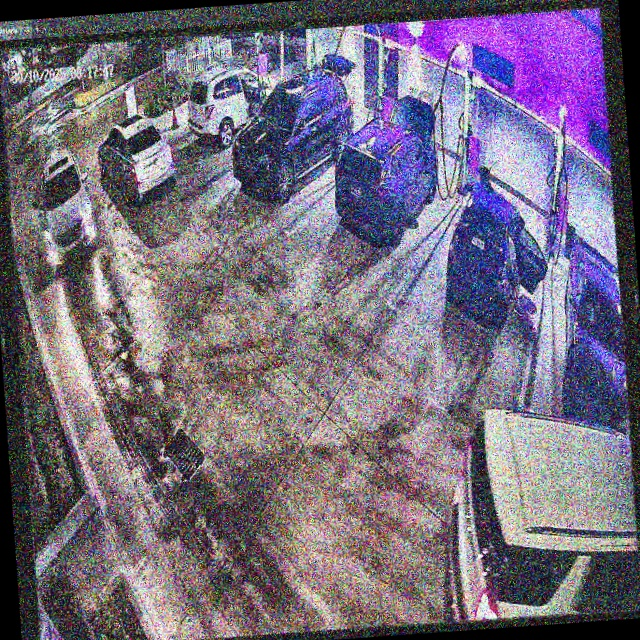Car: (439, 392, 640, 622), (225, 49, 360, 199), (439, 176, 550, 326), (331, 99, 443, 247), (183, 59, 286, 151), (100, 118, 175, 201)
